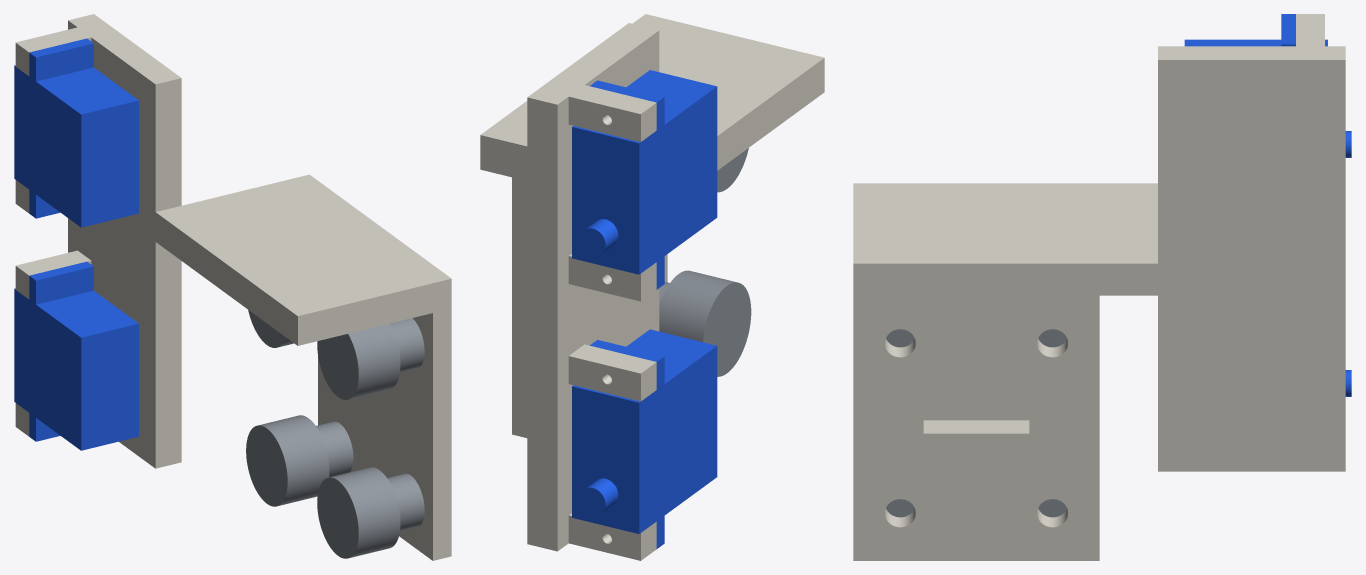
The model's file is robot_extractor.glb.
3 views of the same model, side by side, from view 1: azimuth 30°, elevation 25°; view 2: azimuth 150°, elevation 25°; view 3: azimuth 270°, elevation 25° (orthographic). The views are drawn at different scales.
Visible parts, largest first — view 1: robot_extractor (×3); view 2: robot_extractor (×3); view 3: robot_extractor (×3).
Boxes of the visible parts, left/top/right/bottom form: robot_extractor (×3): left=14, top=14, right=451, bottom=560; robot_extractor (×3): left=480, top=14, right=824, bottom=560; robot_extractor (×3): left=853, top=14, right=1351, bottom=560.
Bounding box in the file's own units: 0.051 × 0.0817 × 0.085.
